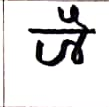ai_matra: (57, 4, 92, 29)
